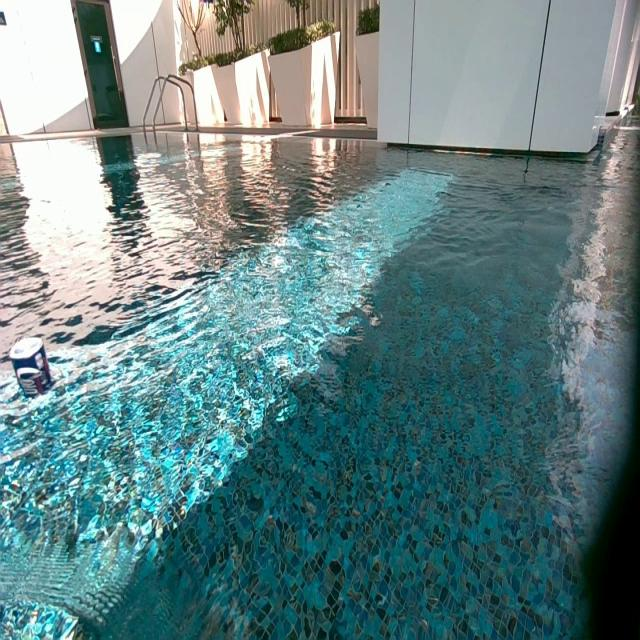Cans: (9, 337, 47, 383)
